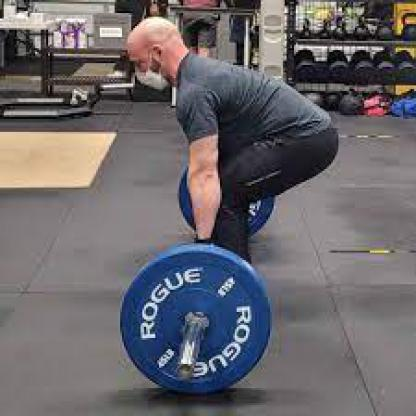barbell: (119, 152, 277, 398)
